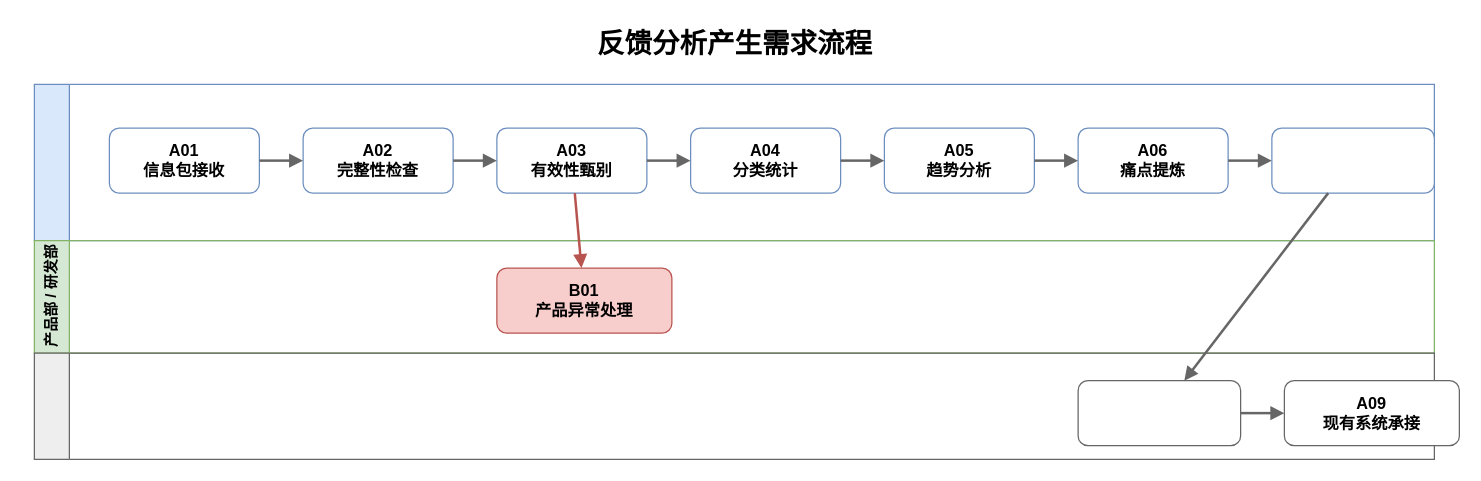
Some shapes in this 1481 by 481 pixel diagram are drawn without their labels. Here are the shapes that lost their labels. From the top down, the box of each, then its label:
(33, 83, 1434, 241): 售后部 / 电商部 / 产品部
(1271, 127, 1434, 193): A07 候选需求生成
(33, 352, 1434, 459): 现有需求池系统
(1077, 379, 1241, 446): A08 导入需求池
